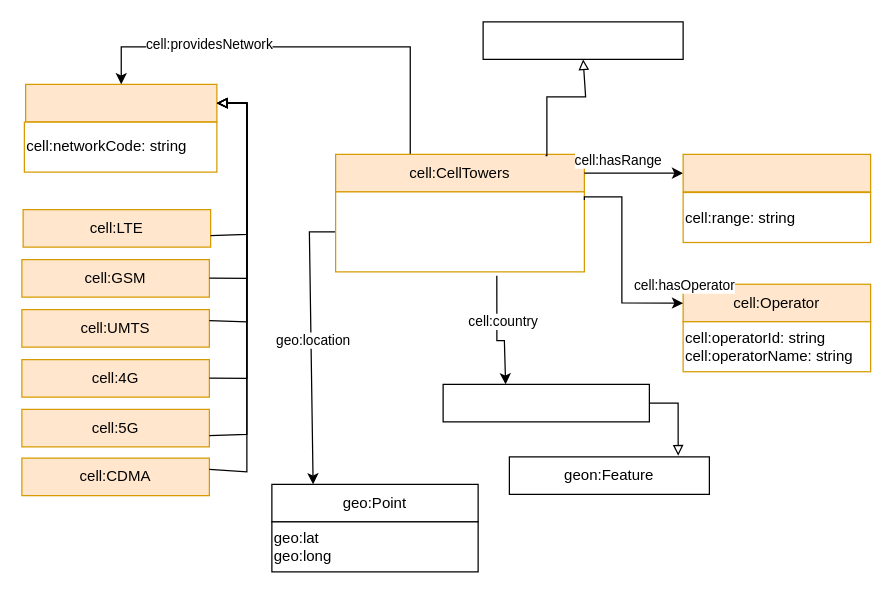
Image size: 893x594. Some labels were removed from this diagram. The shapes that lost their labels are listed below. From the top down, each one's box as (x1, y1, x2, y2) in pixels, then its label:
(482, 21, 683, 59): core:Device
(24, 83, 217, 122): cell:Network
(682, 153, 871, 192): cell:Range
(334, 191, 584, 272): cell:cellId: string cell:created: dateTime
(442, 383, 649, 422): core:Country
